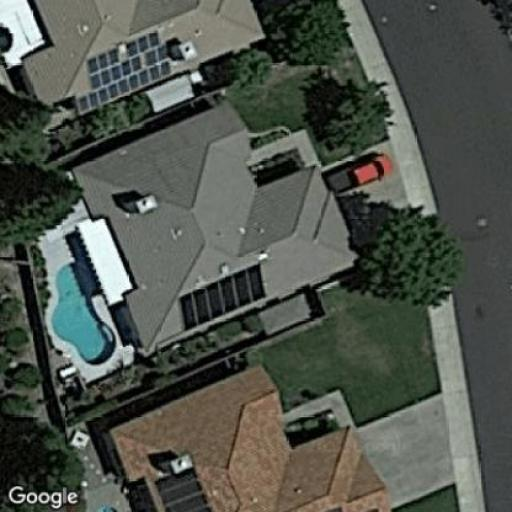solar-panel: (82, 30, 173, 110), (178, 262, 268, 329), (155, 466, 211, 511)
